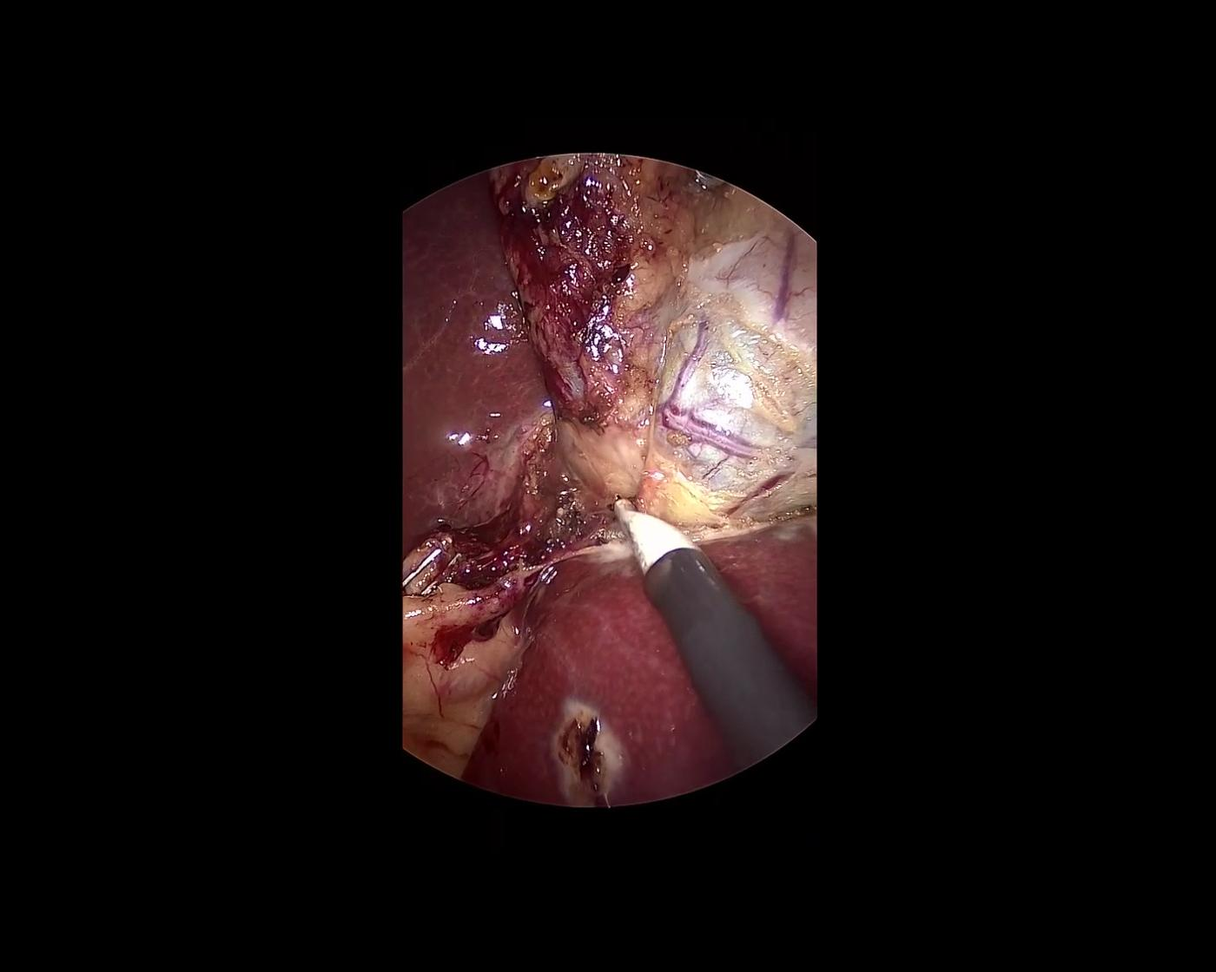Cautery: (589, 467, 825, 774)
Gallbladder: (484, 157, 815, 541)
Liver: (439, 514, 839, 819), (399, 170, 552, 563)
